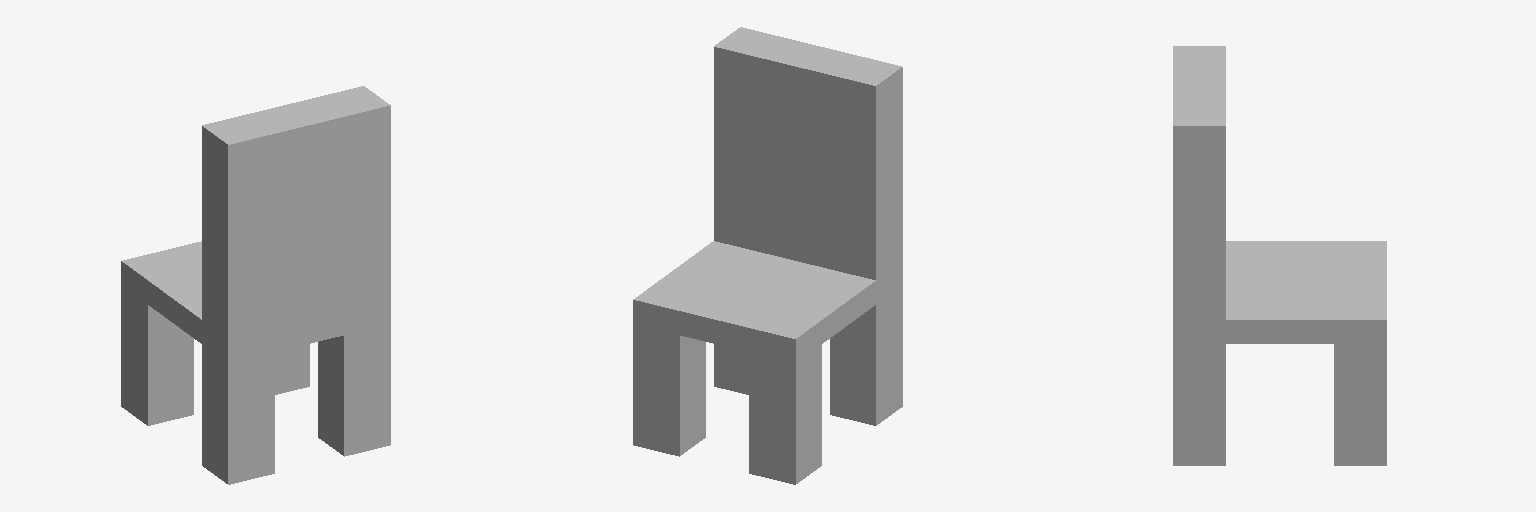
File: chair.obj
3 views of the same model, side by side, from view 1: azimuth 30°, elevation 25°; view 2: azimuth 150°, elevation 25°; view 3: azimuth 270°, elevation 25° (orthographic).
Visible parts, largest first — view 1: object 1; view 2: object 1; view 3: object 1.
Boxes of the visible parts, <box> form: object 1: <box>121,86,390,484</box>; object 1: <box>633,27,902,484</box>; object 1: <box>1173,46,1386,465</box>.
Size of the model in its own units: 0.7 by 1.4 by 0.8.